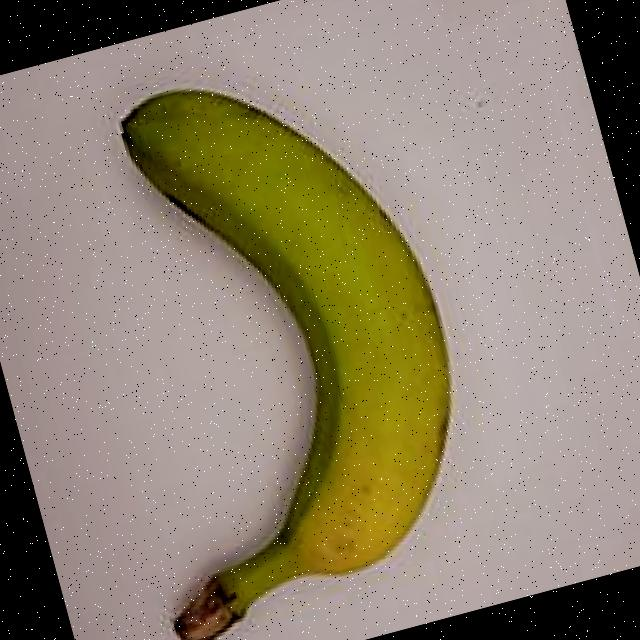Unripe: (0, 18, 539, 640)
